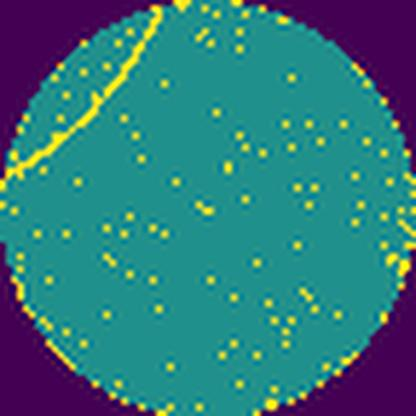Scratch: (2, 2, 168, 182)
